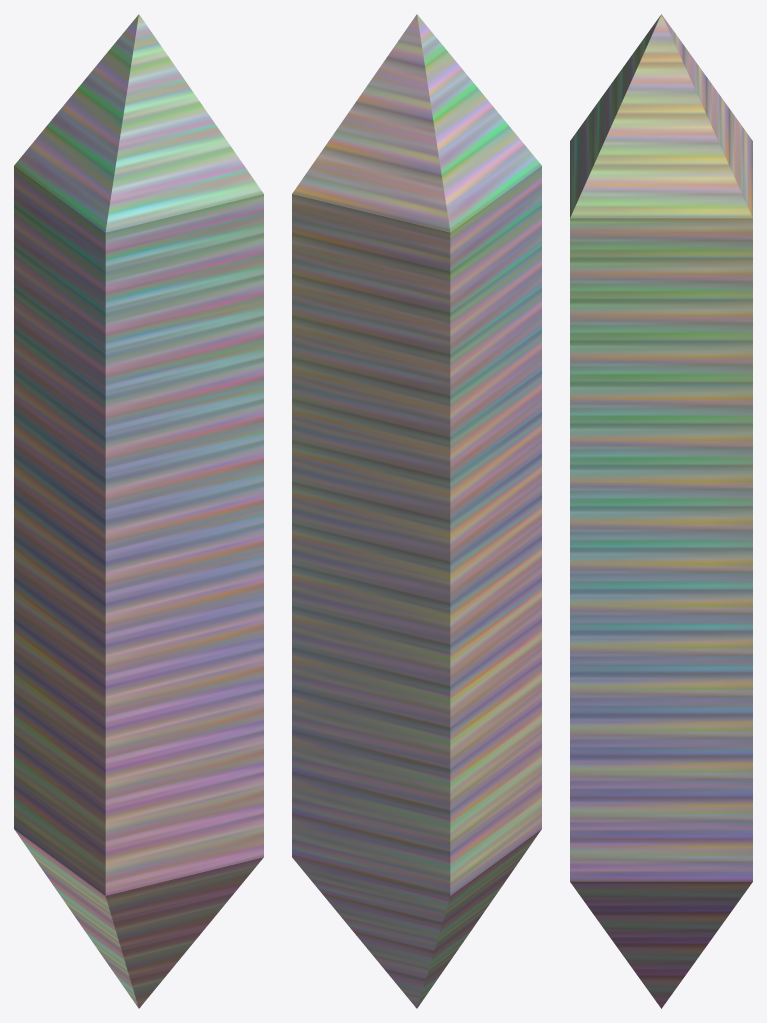
File: matrix_crystal.obj
3 renders of one model, left to right at view 1: azimuth 30°, elevation 25°; view 2: azimuth 150°, elevation 25°; view 3: azimuth 270°, elevation 25°, orthographic.
Visible parts, largest first — view 1: MATRIX_CRYSTAL; view 2: MATRIX_CRYSTAL; view 3: MATRIX_CRYSTAL.
Boxes of the visible parts, x1,y1,x2,y2 form: MATRIX_CRYSTAL: (14,14,263,1008); MATRIX_CRYSTAL: (292,14,541,1008); MATRIX_CRYSTAL: (570,14,752,1008).
Size of the model in its own units: 0.125 by 0.75 by 0.125.
